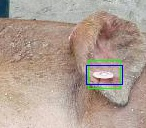text: (88, 60, 120, 88)
